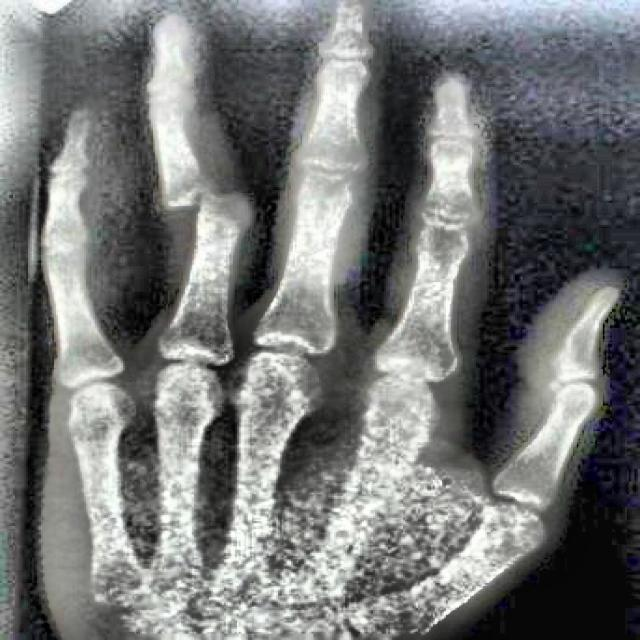fracture: (179, 182, 228, 222)
